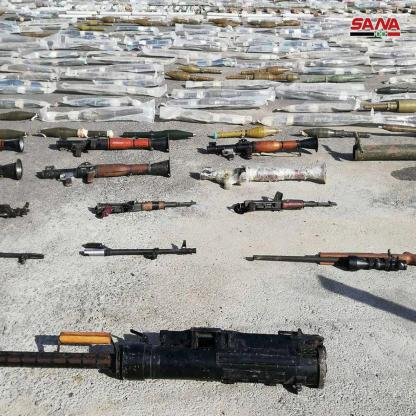rifle: (0, 324, 332, 392), (37, 156, 181, 191), (250, 247, 416, 276), (34, 126, 200, 154), (80, 237, 204, 268), (230, 190, 338, 222), (203, 135, 325, 161), (94, 197, 200, 223)
